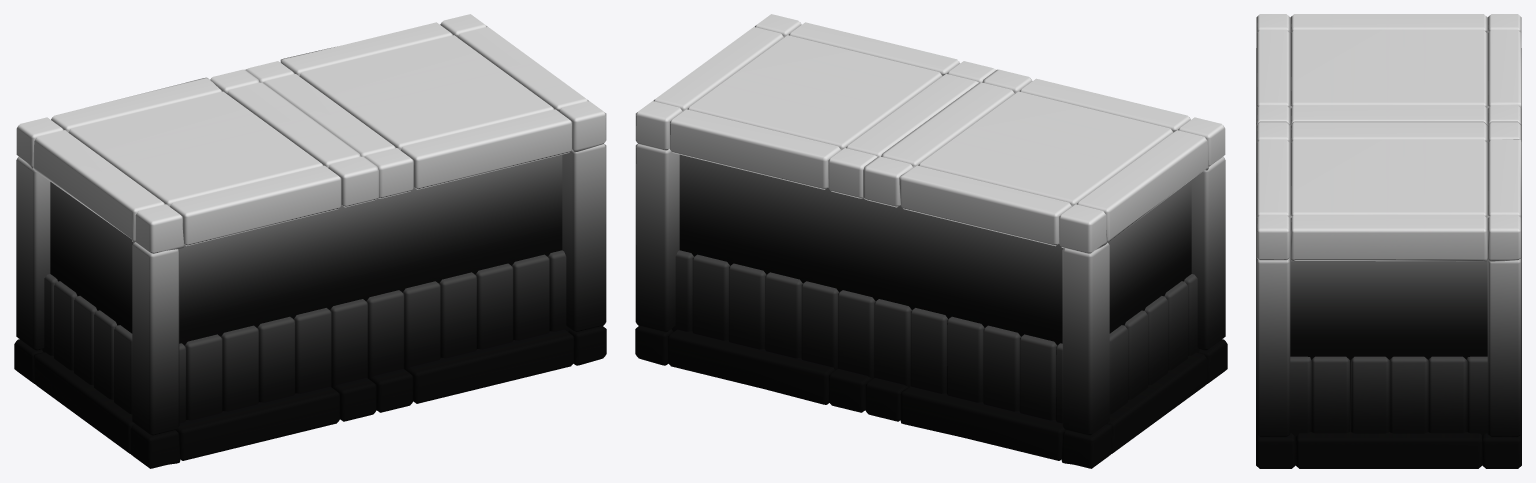
File: SM_Wood_Body_06.fbx
The picture shows the model from 3 angles, left to right: view 1: azimuth 30°, elevation 25°; view 2: azimuth 150°, elevation 25°; view 3: azimuth 270°, elevation 25°; orthographic projection. The views are drawn at different scales.
Parts seen in each view (by area): view 1: SM_Wood_Body_06; view 2: SM_Wood_Body_06; view 3: SM_Wood_Body_06.
Boxes of the visible parts, left/top/right/bottom form: SM_Wood_Body_06: left=14, top=14, right=606, bottom=468; SM_Wood_Body_06: left=635, top=14, right=1227, bottom=468; SM_Wood_Body_06: left=1256, top=14, right=1521, bottom=468.
Size of the model in its own units: 2 by 1.03 by 1.03.
